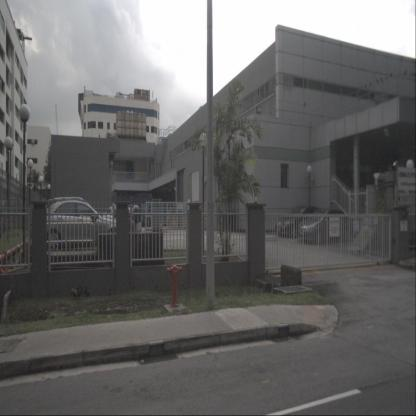vehicle-car: (30, 200, 134, 255), (298, 207, 350, 246), (276, 206, 320, 240)
